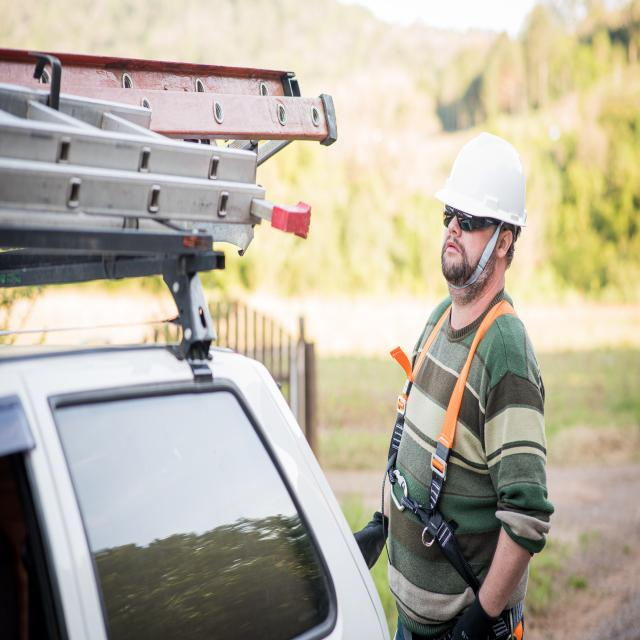capacete: (432, 130, 529, 233)
corda de vida: (378, 290, 526, 640)
